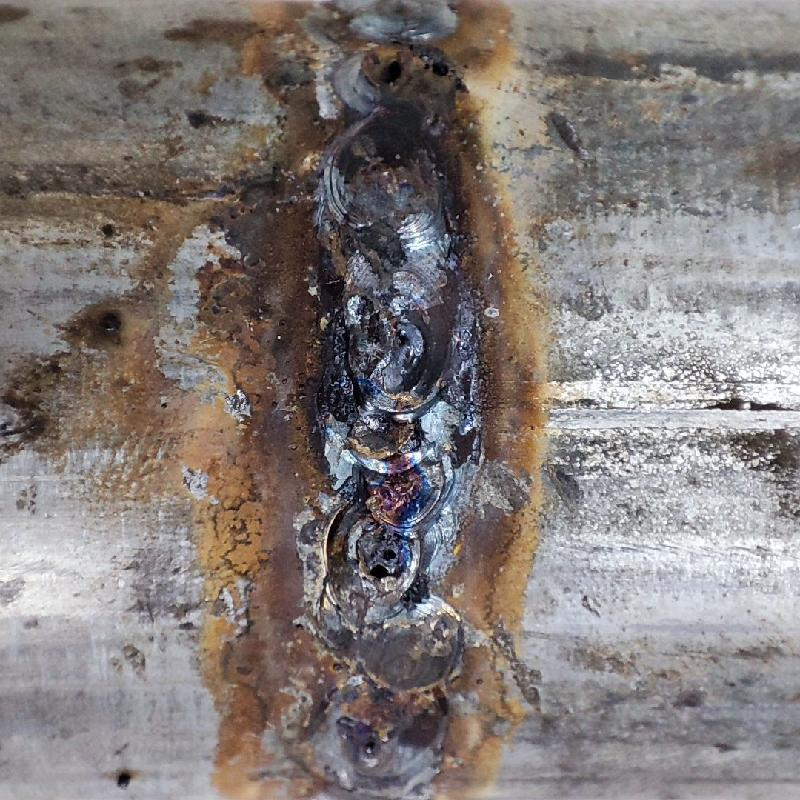Surface_pores: (368, 39, 458, 103), (353, 531, 421, 593)
crater: (313, 269, 485, 795)
wrong_size: (296, 2, 479, 265)
